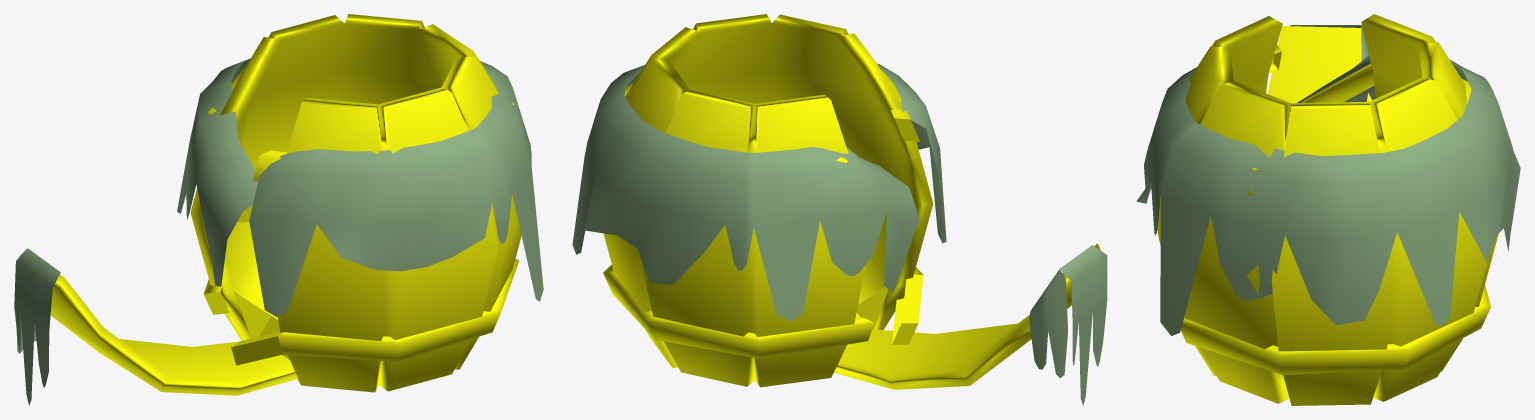
File: Barrel_3.fbx
3 views of the same model, side by side, from view 1: azimuth 30°, elevation 25°; view 2: azimuth 150°, elevation 25°; view 3: azimuth 270°, elevation 25° (orthographic). The views are drawn at different scales.
Parts seen in each view (by area): view 1: Barrel_3; view 2: Barrel_3; view 3: Barrel_3.
Part boxes in pixels (left/top/right/bottom): Barrel_3: left=14, top=14, right=543, bottom=405; Barrel_3: left=572, top=14, right=1107, bottom=405; Barrel_3: left=1136, top=14, right=1520, bottom=405.
Bounding box in the file's own units: 121 × 66.79 × 78.58.
